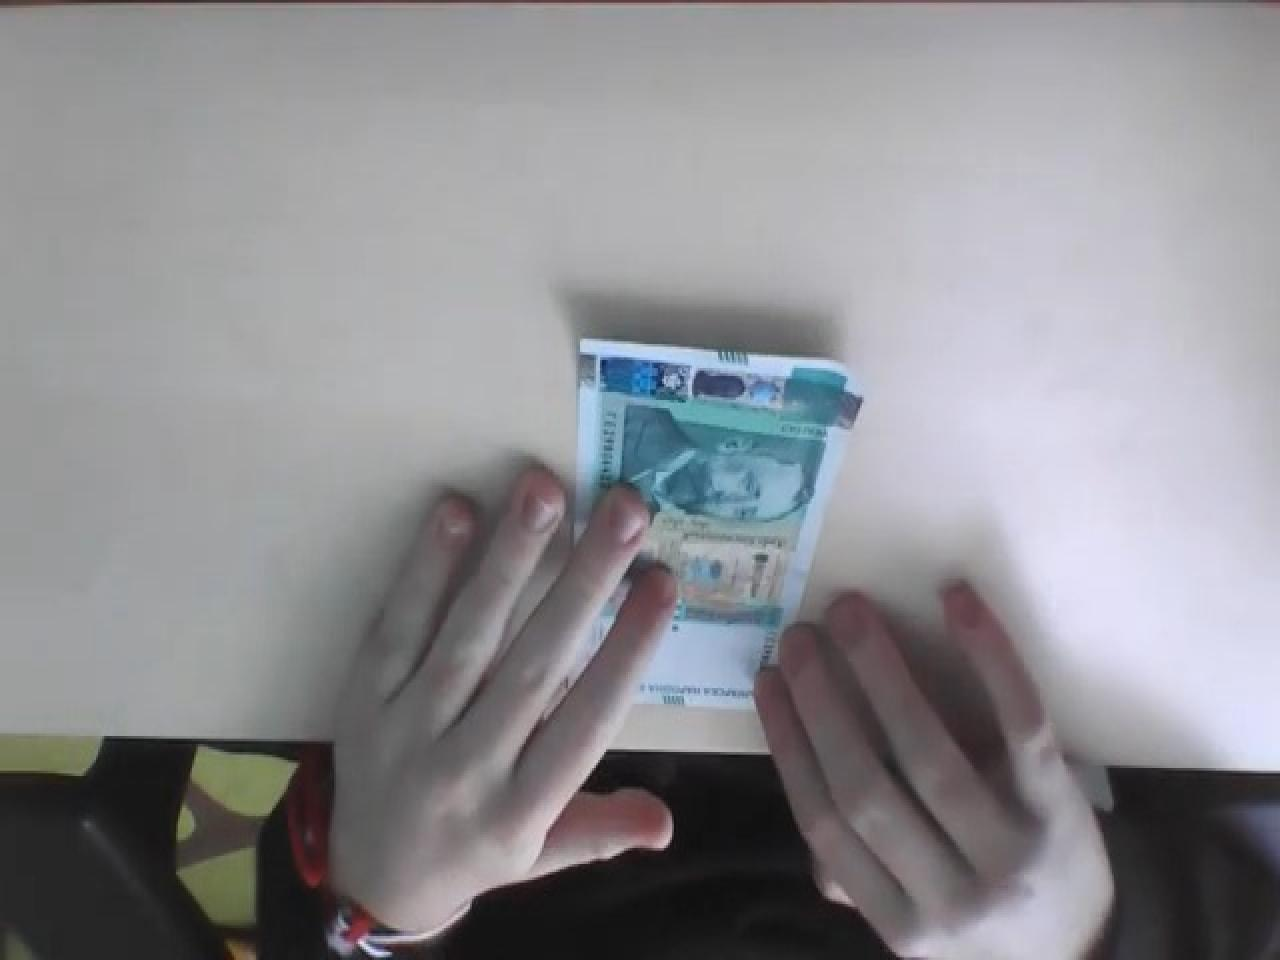100leva: (572, 336, 866, 712)
